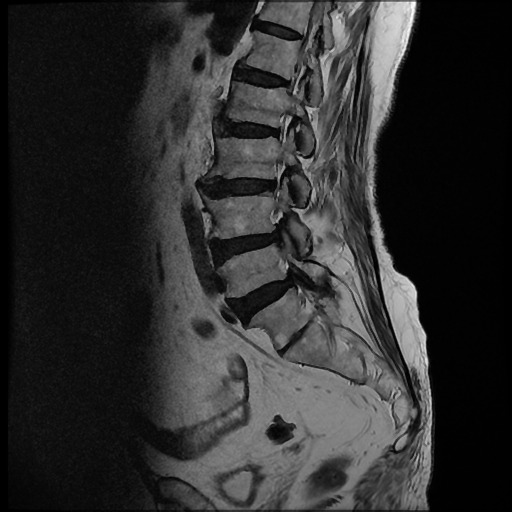LFS0: (261, 102, 302, 153)
